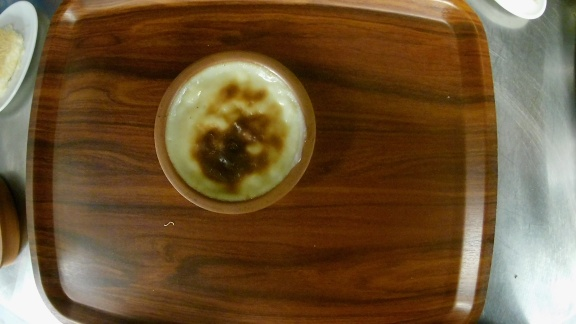sutlac: (153, 50, 319, 214)
